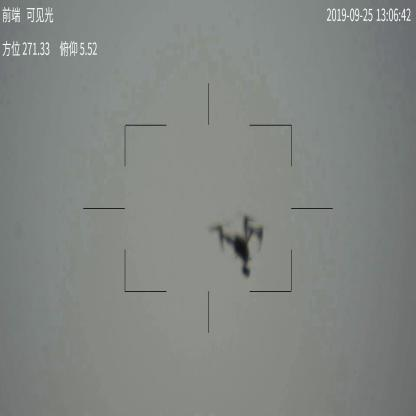uav: (209, 211, 270, 280)
